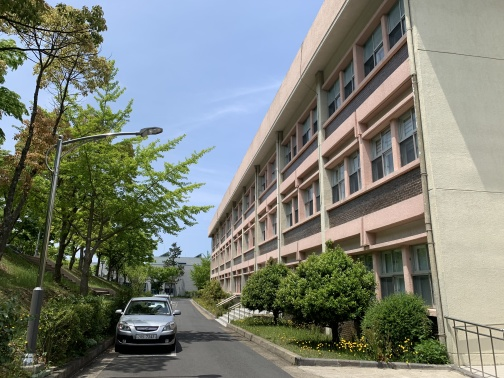College Of Education: (197, 5, 501, 369)
